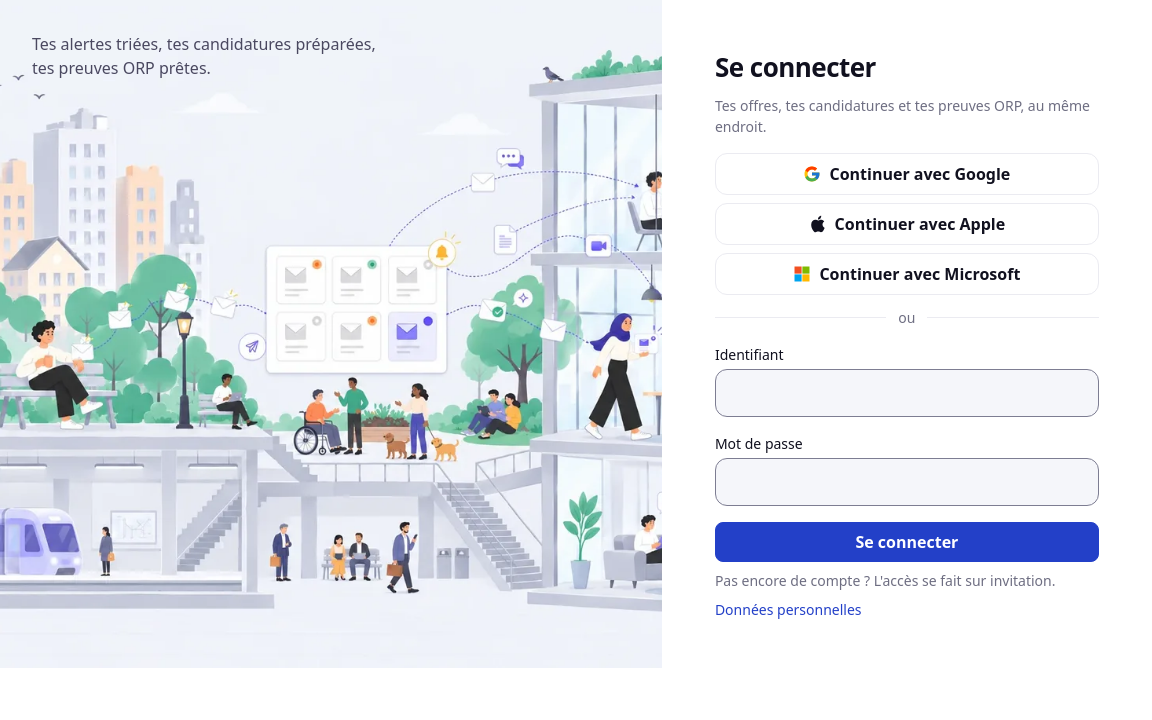
Test: LoginView, deux moitiés (docs/65, complément 0.53.1) › Google, Apple, Microsoft présentés : un clic dit que ça arrive
Expected: the element with class "auth-art" is shown, [0,0,662,668]
Click the button with test id "social-google".
click(907, 174)  # box [715,153,1099,195]
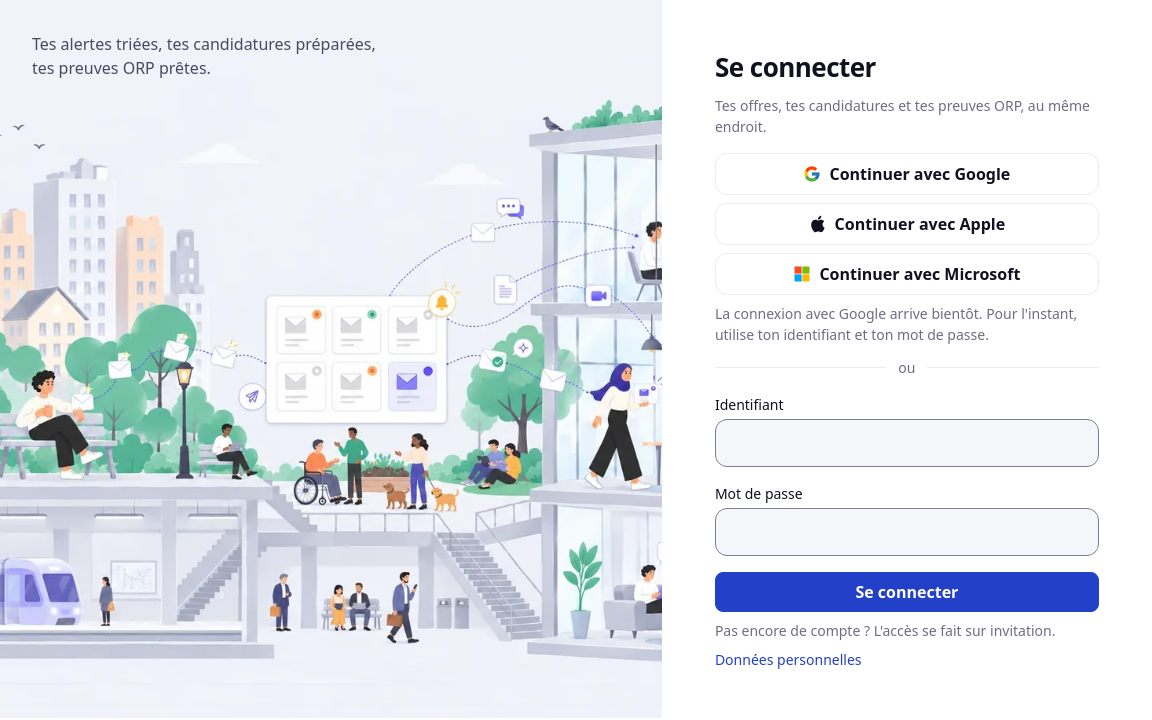
Expected: the form with test id "login-form" is shown, [715,394,1099,612]
Expected: the message with test id "social-notice" shows "Google arrive bientôt", [715,304,1077,344]
